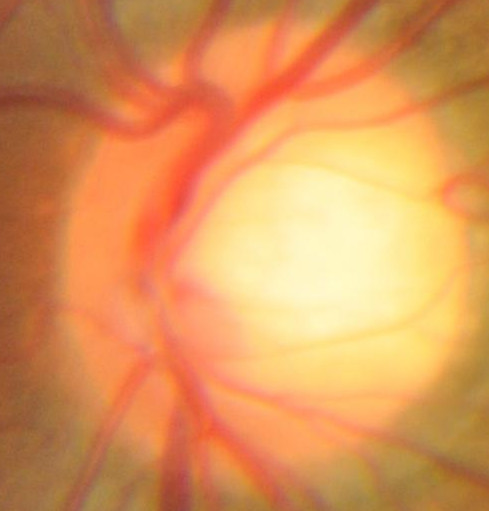Glaucoma section-1: (250, 172, 410, 330)
Glaucoma section-2: (64, 27, 476, 473)
